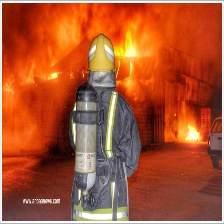fire: (118, 38, 144, 63), (183, 125, 202, 143)
smoke: (3, 4, 223, 65)
